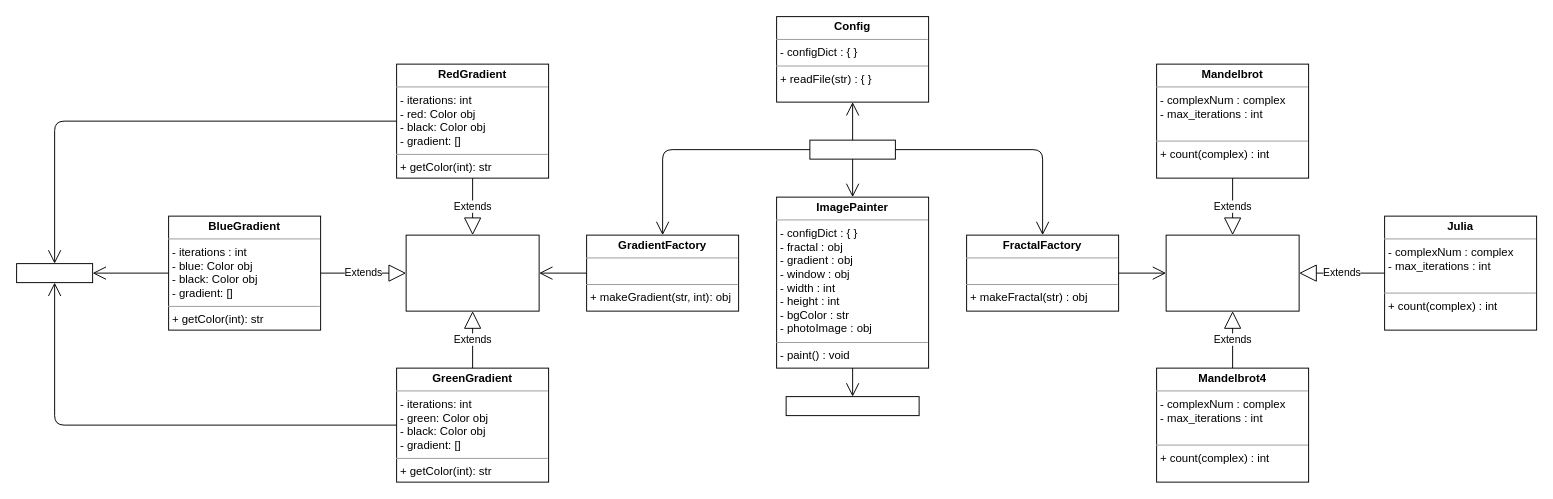
This 1553x499 diagram has some shape labels left out. Here are the shapes that lost their labels. From the top down, the centre of each, then its label:
At [852,149]: "Main".
At [54,273]: "colour".
At [472,272]: "Gradient + getColor(int): err".
At [1232,272]: "Fractal + count(complex) : err".
At [852,406]: "Tkinter".
